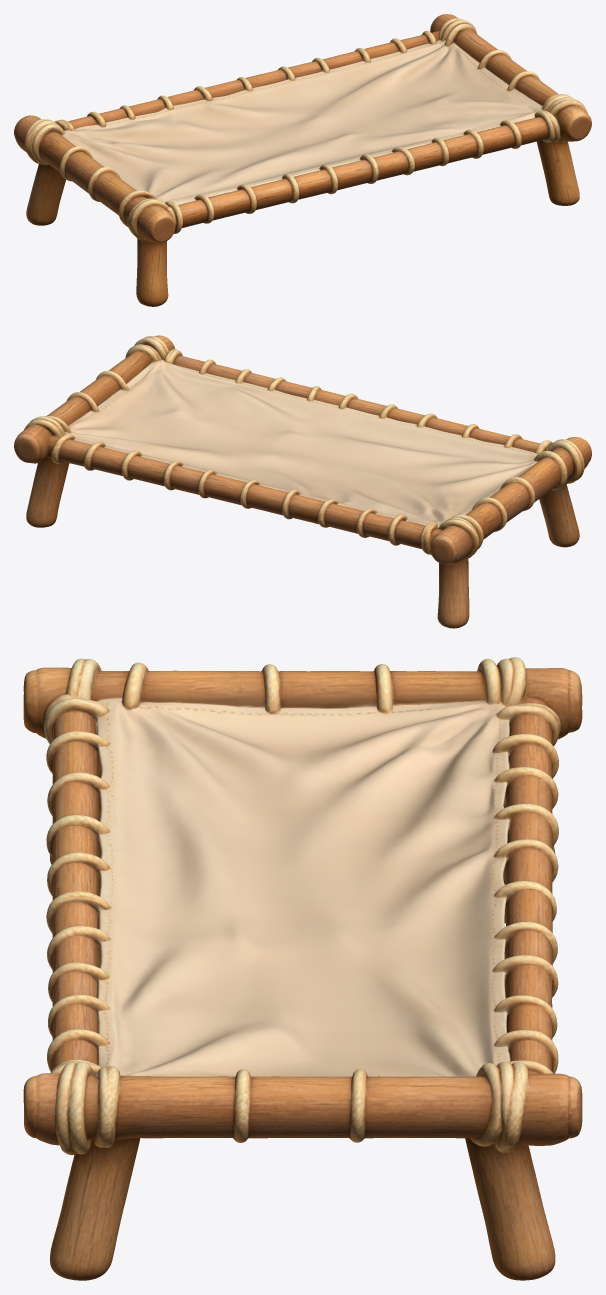
The model's file is wooden-bench.glb.
3 views of the same model, one above another, from view 1: azimuth 30°, elevation 25°; view 2: azimuth 150°, elevation 25°; view 3: azimuth 270°, elevation 25° (orthographic). The views are drawn at different scales.
Parts seen in each view (by area): view 1: tripo_node_c3c480f8-b611-498a-b5f0-adeccaf6099e; view 2: tripo_node_c3c480f8-b611-498a-b5f0-adeccaf6099e; view 3: tripo_node_c3c480f8-b611-498a-b5f0-adeccaf6099e.
Part boxes in pixels (x1,y1,x2,y2): tripo_node_c3c480f8-b611-498a-b5f0-adeccaf6099e: [14, 14, 591, 306]; tripo_node_c3c480f8-b611-498a-b5f0-adeccaf6099e: [14, 335, 591, 628]; tripo_node_c3c480f8-b611-498a-b5f0-adeccaf6099e: [23, 657, 582, 1280].
Bounding box in the file's own units: 1 × 0.2198 × 0.5323.
1 material, 1 textured.
